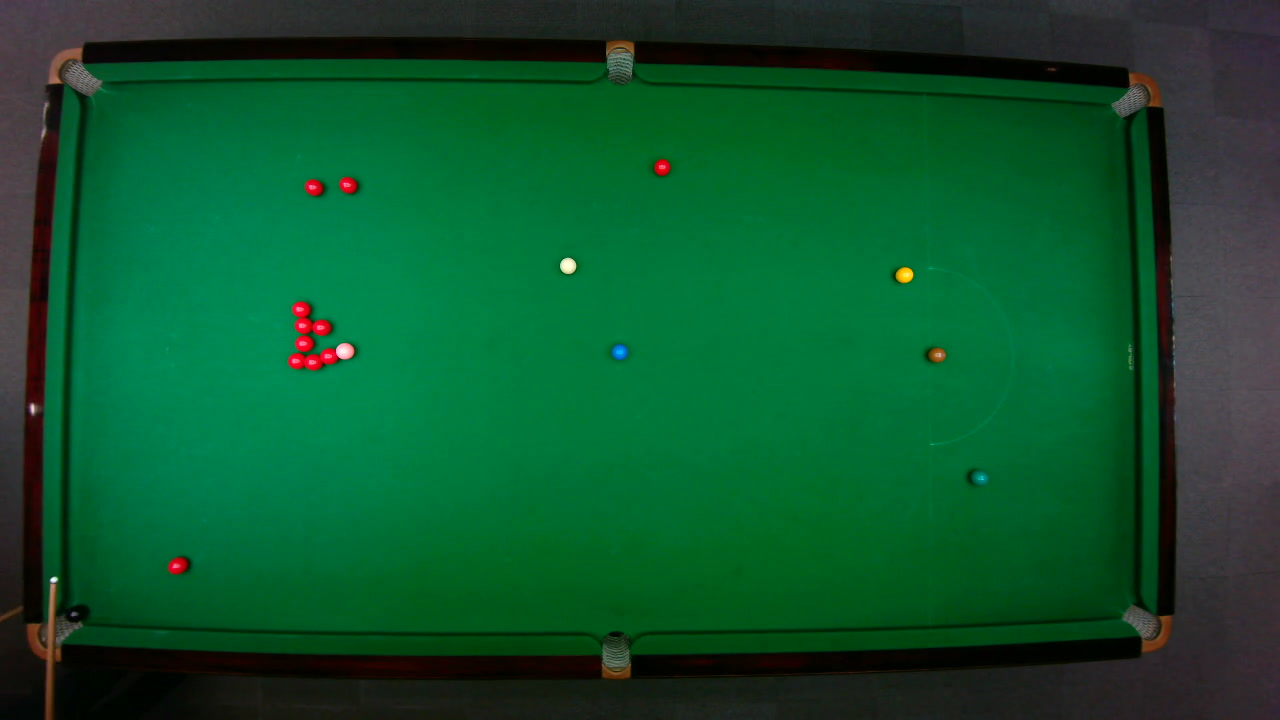bag: (25, 608, 83, 660), (45, 46, 102, 96), (1119, 603, 1171, 652), (1108, 71, 1161, 118), (600, 629, 630, 680), (605, 38, 633, 85)
black: (64, 604, 85, 622)
blue: (610, 342, 628, 360)
brown: (926, 346, 946, 362)
cue: (44, 578, 55, 718)
green: (969, 468, 989, 485)
pink: (334, 341, 355, 360)
red: (165, 555, 189, 574), (337, 174, 358, 194), (302, 177, 324, 196), (302, 352, 324, 370), (290, 299, 311, 317), (310, 317, 331, 335), (318, 346, 337, 365), (293, 334, 313, 352), (652, 158, 671, 176), (286, 351, 305, 369), (292, 317, 312, 334)
white: (558, 256, 577, 274)
yellow: (893, 265, 914, 283)
zone: (927, 266, 1013, 446)
